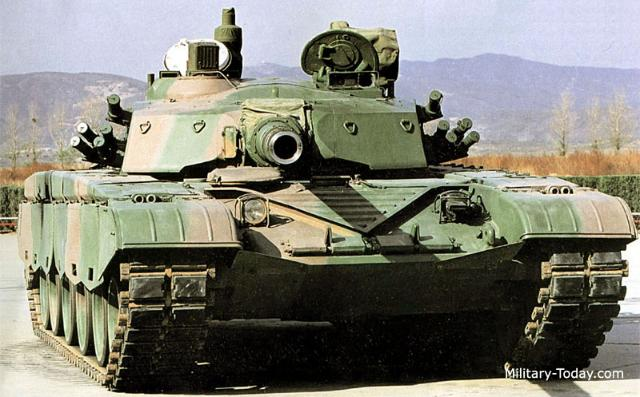tank: (19, 7, 628, 370)
